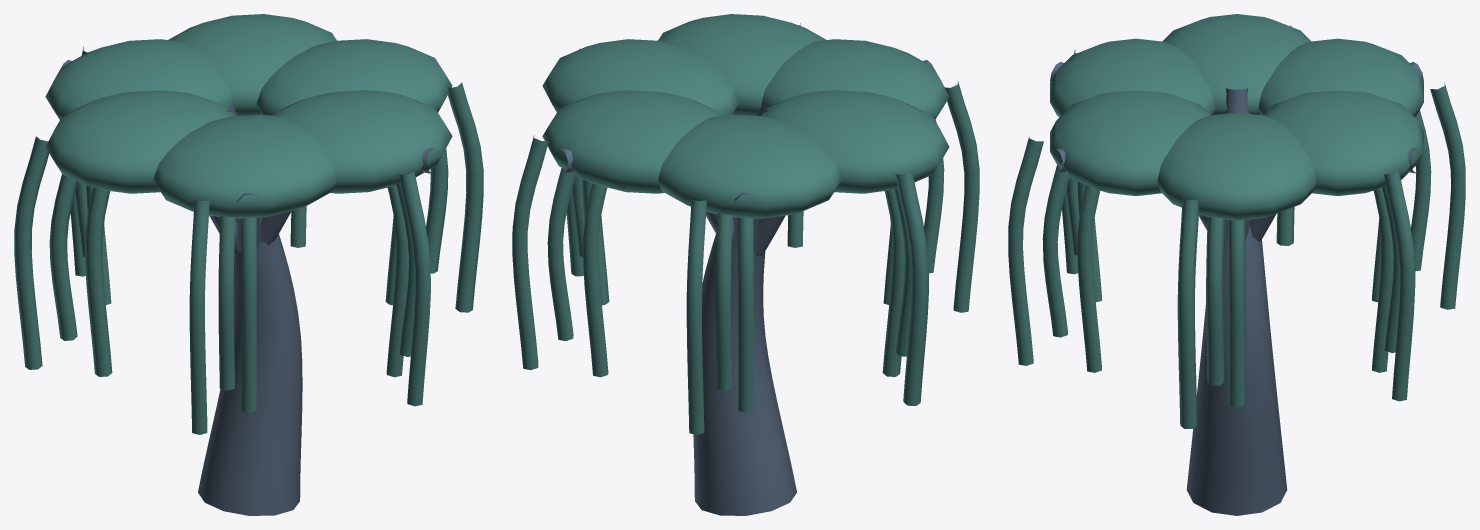
Rendered from moonsteel-convergence-weeping-jadewood-f67d81db__18188.glb.
3 views of the same model, side by side, from view 1: azimuth 30°, elevation 25°; view 2: azimuth 150°, elevation 25°; view 3: azimuth 270°, elevation 25° (orthographic). The views are drawn at different scales.
Visible parts, largest first — view 1: weeping-jadewood; view 2: weeping-jadewood; view 3: weeping-jadewood.
Boxes of the visible parts, x1,y1,x2,y2 form: weeping-jadewood: (14, 14, 483, 515); weeping-jadewood: (512, 14, 979, 515); weeping-jadewood: (1008, 14, 1465, 515).
Size of the model in its own units: 3.81 by 3.7 by 3.73.
